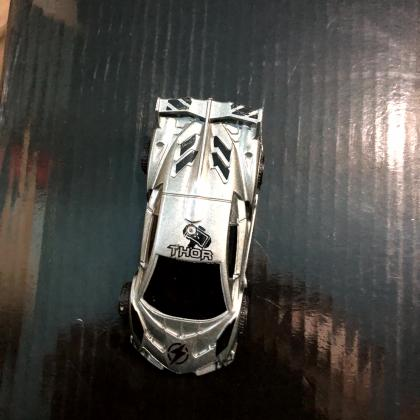Car: (122, 98, 264, 378)
